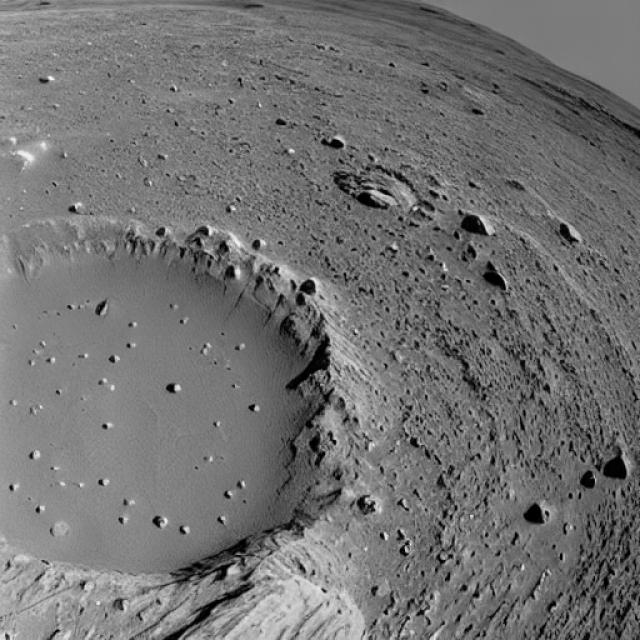crater: (0, 219, 371, 614)
